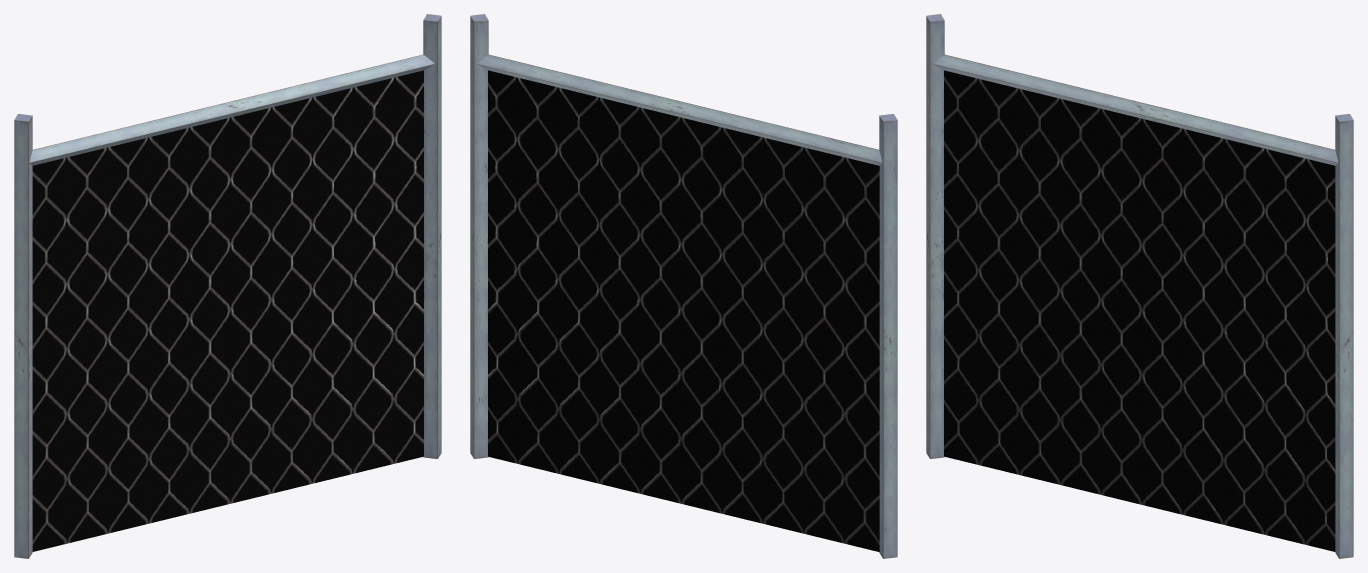
File: Grade1 .fbx
The picture shows the model from 3 angles, left to right: view 1: azimuth 30°, elevation 25°; view 2: azimuth 150°, elevation 25°; view 3: azimuth 330°, elevation 25°; orthographic projection.
Visible parts, largest first — view 1: Cerca; view 2: Cerca; view 3: Cerca.
Boxes of the visible parts, x1,y1,x2,y2 form: Cerca: (14, 14, 441, 558); Cerca: (470, 14, 897, 558); Cerca: (926, 14, 1353, 558).
Bounding box in the file's own units: 217 × 212 × 9.34.
